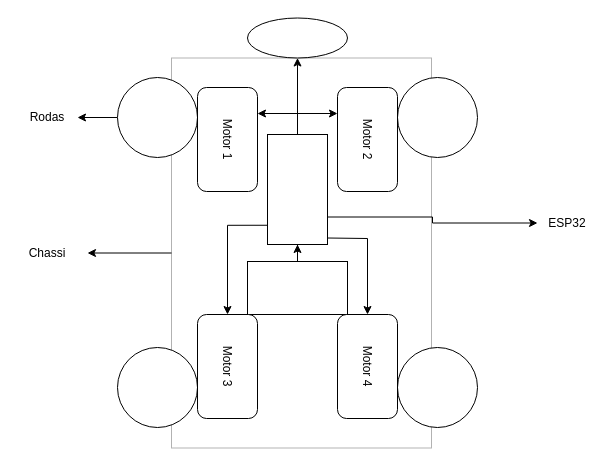
The diagram is 614 pixels wide and 465 high, and some of its shapes have lost their labels. The centre of each missing label's shape, as x and y in pixels:
Bateria: the point at 297,287
Sensor: the point at 297,37
